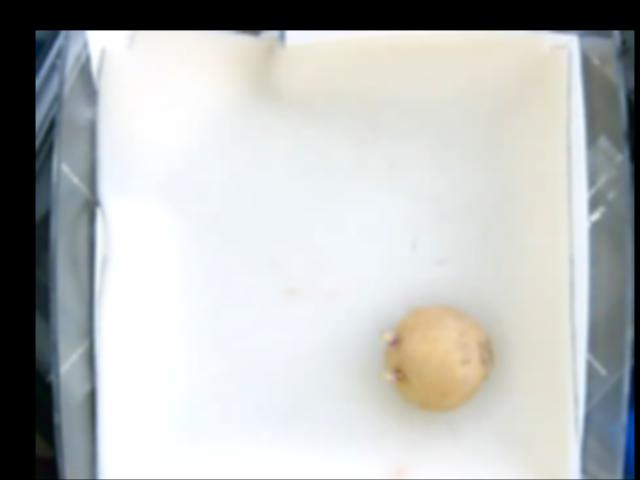Potato: (379, 305, 494, 413)
